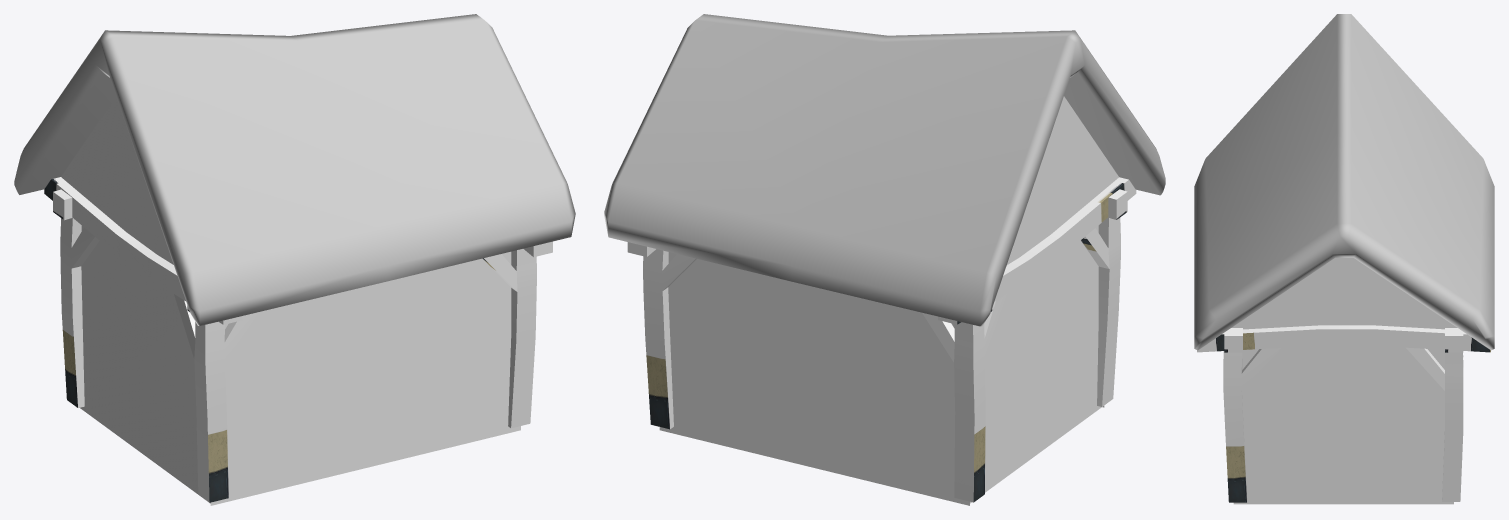
Rendered from House_Small_1.fbx.
The picture shows the model from 3 angles, left to right: view 1: azimuth 30°, elevation 25°; view 2: azimuth 150°, elevation 25°; view 3: azimuth 270°, elevation 25°; orthographic projection. The views are drawn at different scales.
Parts seen in each view (by area): view 1: House_Small_1; view 2: House_Small_1; view 3: House_Small_1.
Part boxes in pixels (x1,y1,x2,y2): House_Small_1: [14, 14, 575, 505]; House_Small_1: [604, 14, 1165, 505]; House_Small_1: [1194, 14, 1494, 504].
Bounding box in the file's own units: 500 × 532 × 409.
